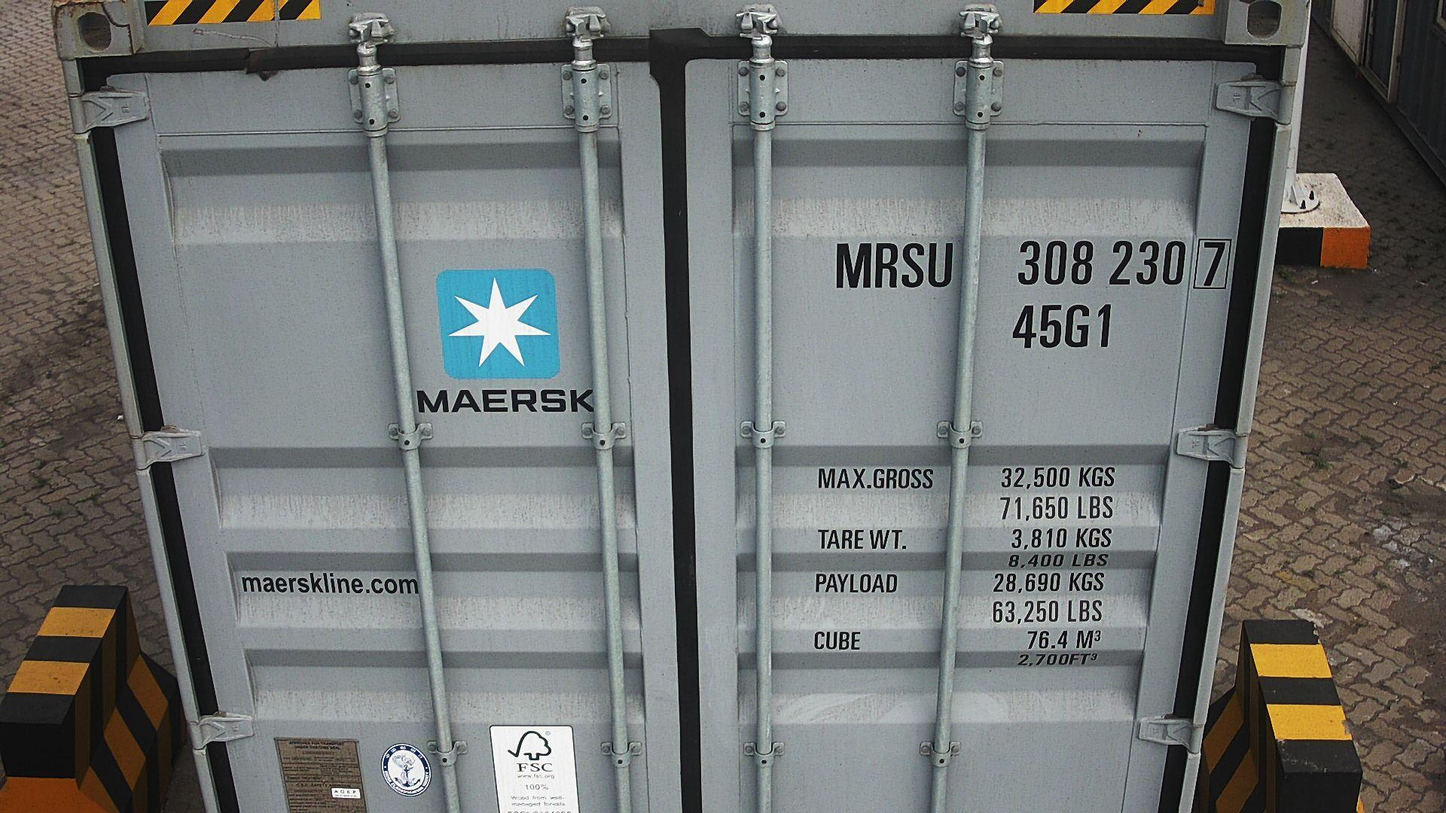container-numbers: (830, 235, 1241, 293), (1007, 300, 1119, 355)
